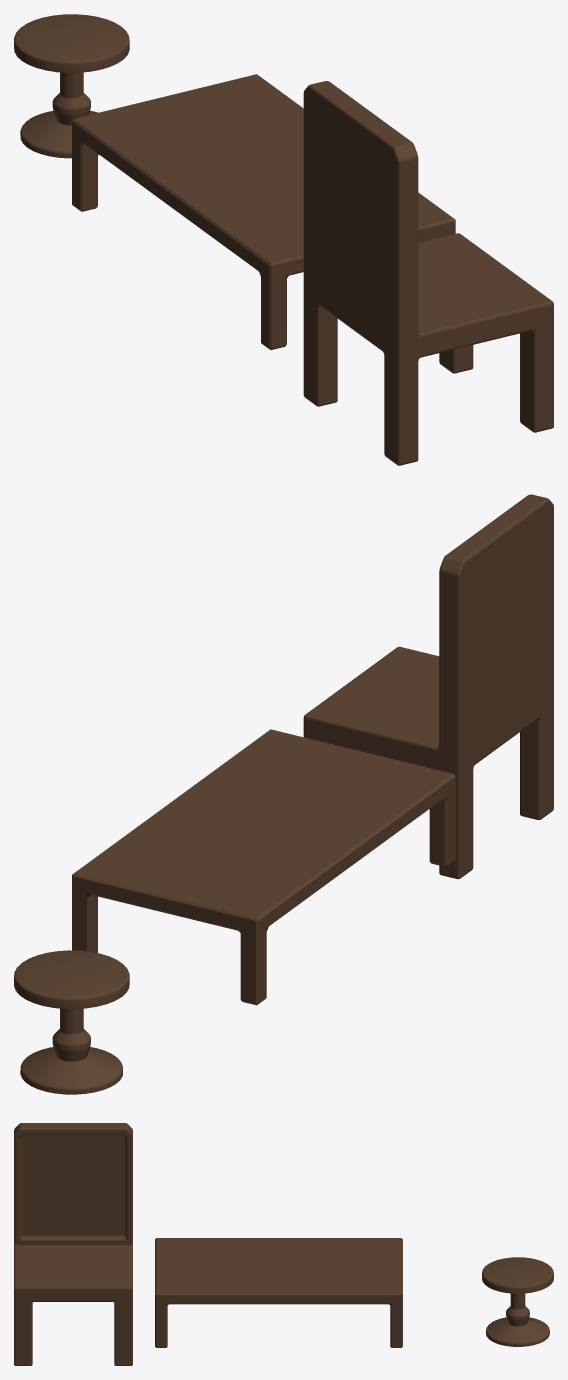
Rendered from Furnitures.fbx.
3 renders of one model, top to bottom at view 1: azimuth 30°, elevation 25°; view 2: azimuth 150°, elevation 25°; view 3: azimuth 270°, elevation 25°, orthographic. The views are drawn at different scales.
Parts seen in each view (by area): view 1: Cube, Cube.001, Cylinder; view 2: Cube.001, Cube, Cylinder; view 3: Cube, Cube.001, Cylinder.
Part boxes in pixels (x1=…): Cube: x1=303, y1=81, x2=553, y2=465; Cube.001: x1=72, y1=74, x2=455, y2=349; Cylinder: x1=14, y1=14, x2=129, y2=158; Cube.001: x1=72, y1=729, x2=455, y2=1005; Cube: x1=303, y1=494, x2=553, y2=879; Cylinder: x1=14, y1=950, x2=129, y2=1094; Cube: x1=14, y1=1123, x2=132, y2=1365; Cube.001: x1=155, y1=1238, x2=402, y2=1347; Cylinder: x1=482, y1=1257, x2=553, y2=1346.
Bounding box in the file's own units: 200 × 323 × 804.
